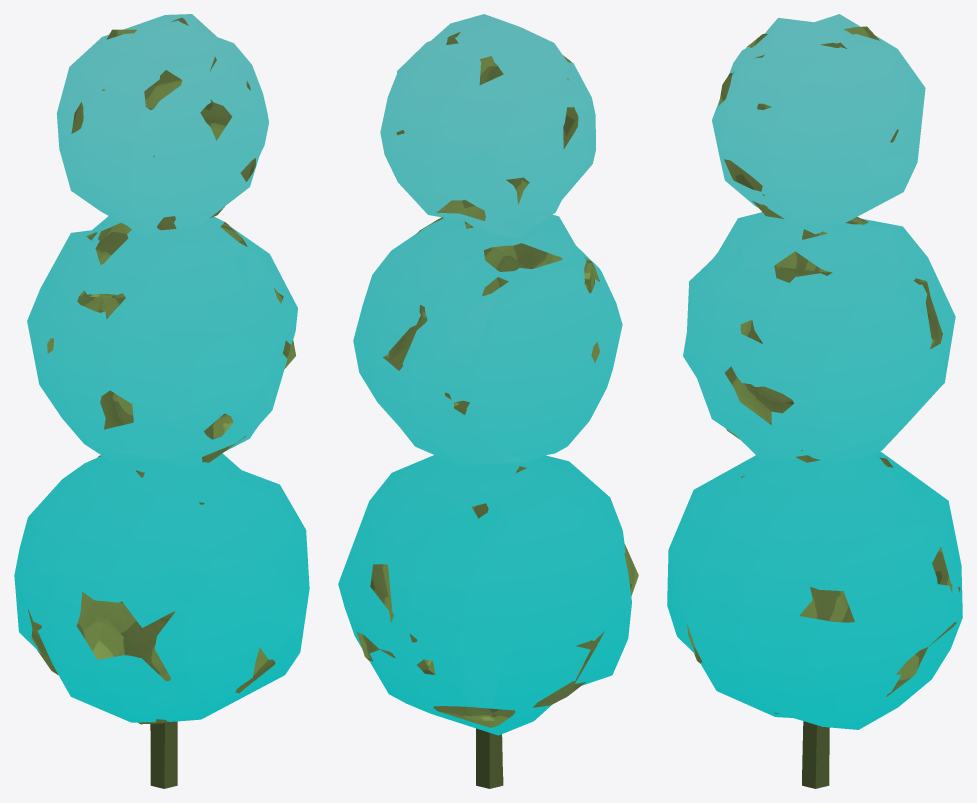
Rendered from SM_Env_Hedge_Topiary_04.fbx.
The picture shows the model from 3 angles, left to right: view 1: azimuth 30°, elevation 25°; view 2: azimuth 150°, elevation 25°; view 3: azimuth 270°, elevation 25°; orthographic projection.
Visible parts, largest first — view 1: SM_Env_Hedge_Topiary_04_LOD0; view 2: SM_Env_Hedge_Topiary_04_LOD0; view 3: SM_Env_Hedge_Topiary_04_LOD0.
Boxes of the visible parts, x1,y1,x2,y2 form: SM_Env_Hedge_Topiary_04_LOD0: (14, 14, 309, 788); SM_Env_Hedge_Topiary_04_LOD0: (338, 14, 638, 788); SM_Env_Hedge_Topiary_04_LOD0: (667, 14, 962, 788).
Size of what is drawn, in the model's own units: 76.31 by 213 by 75.32.
